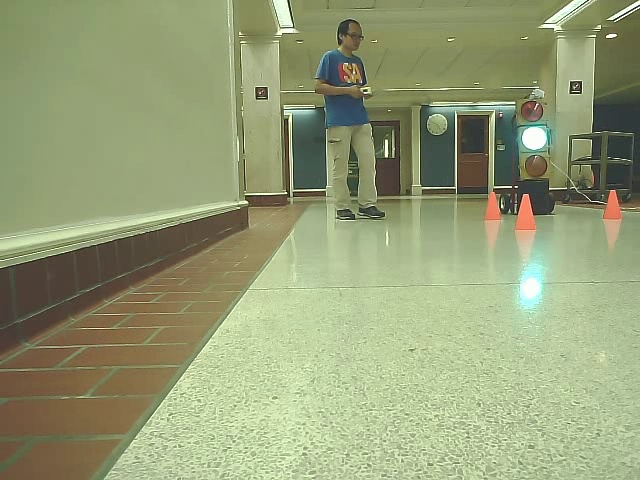green: (513, 100, 553, 180)
